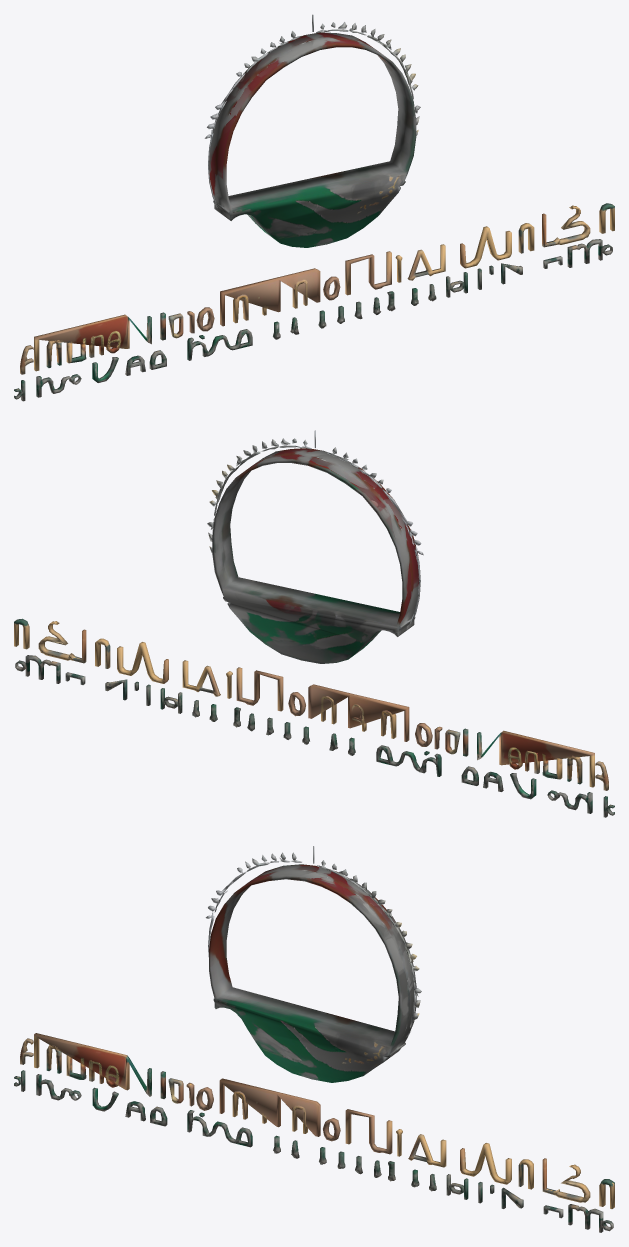
Rendered from selected.glb.
3 renders of one model, top to bottom at view 1: azimuth 30°, elevation 25°; view 2: azimuth 150°, elevation 25°; view 3: azimuth 330°, elevation 25°, orthographic.
Parts seen in each view (by area): view 1: tripo_node_06f73d2a-df6e-4e93-b98b-c9eda6bbc870; view 2: tripo_node_06f73d2a-df6e-4e93-b98b-c9eda6bbc870; view 3: tripo_node_06f73d2a-df6e-4e93-b98b-c9eda6bbc870.
Boxes of the visible parts, left/top/right/bottom form: tripo_node_06f73d2a-df6e-4e93-b98b-c9eda6bbc870: left=14, top=14, right=614, bottom=401; tripo_node_06f73d2a-df6e-4e93-b98b-c9eda6bbc870: left=14, top=430, right=614, bottom=817; tripo_node_06f73d2a-df6e-4e93-b98b-c9eda6bbc870: left=14, top=846, right=614, bottom=1232.
Size of the model in its own units: 0.998 by 0.502 by 0.0449.
1 material, 1 textured.
